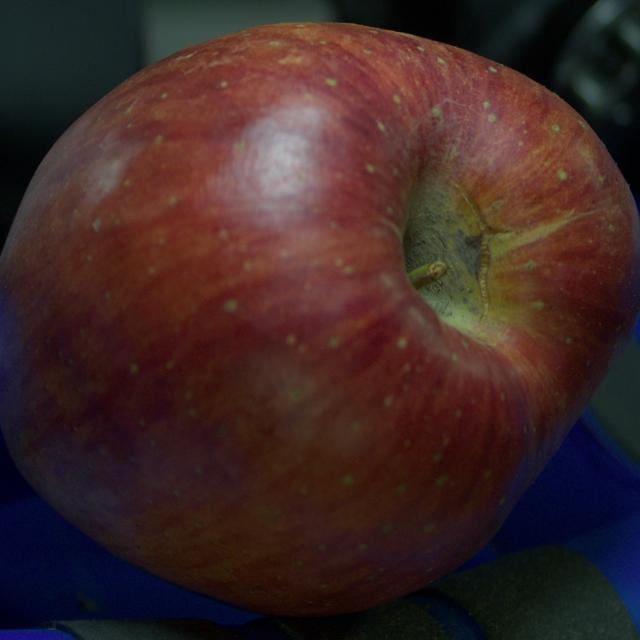apple: (0, 22, 639, 616)
scratch: (456, 184, 500, 324)
